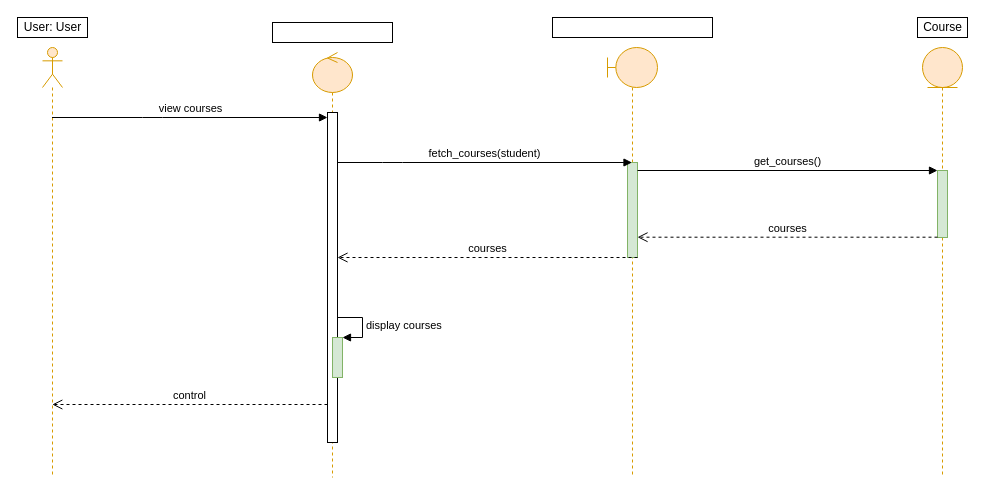
Some shapes in this 985 by 495 pixel diagram are drawn without their labels. Here are the shapes that lost their labels. From the top down, the centre of each, then its label:
At (x=332, y=32): "Progress Tracker UI".
At (x=632, y=27): "Progress Tracker Backend".
